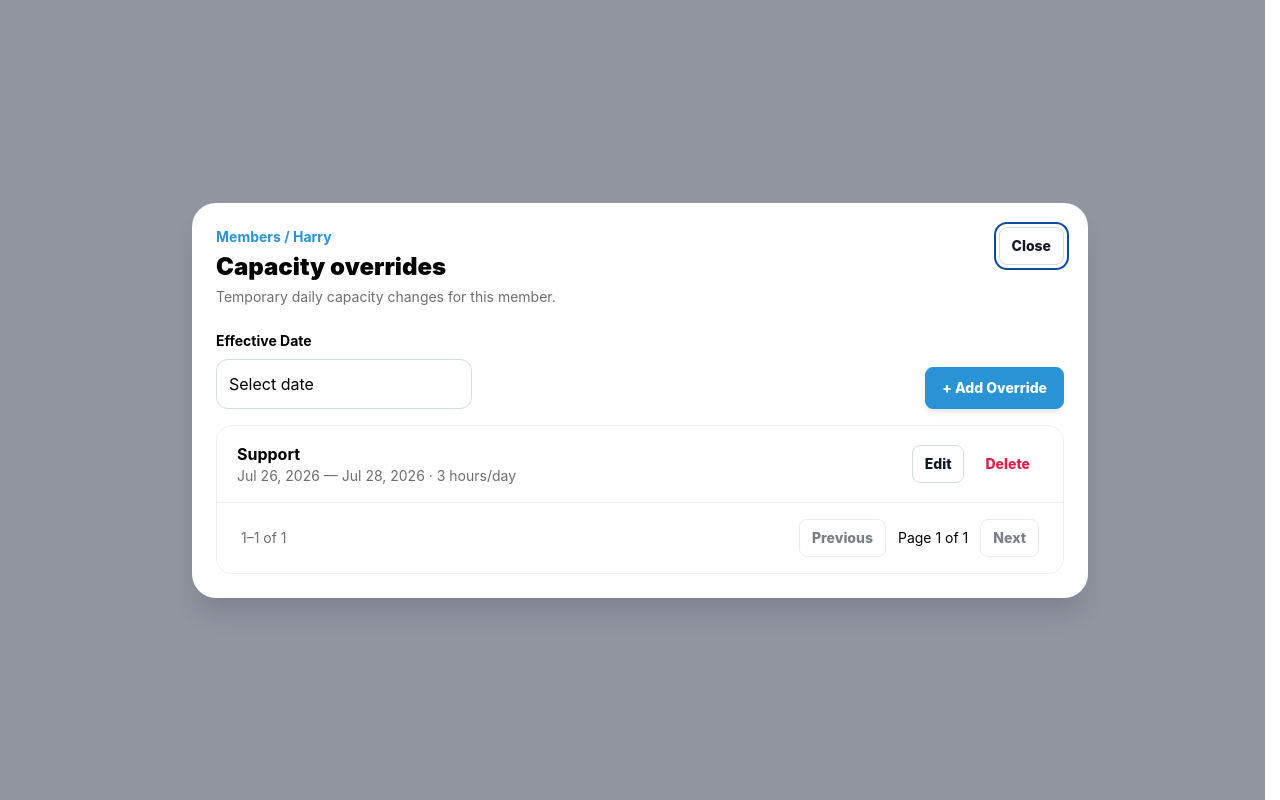
it: Effective Date filtering › requests page one, shows no-results, and clears back to the normal list
This screenshot has width=1280, height=800.
Expected: the text "Support" is shown, [237,444,300,464]
Step 1. Click the button with aria-label "Effective Date: Select date" → (344, 384), box [216,358,472,408]
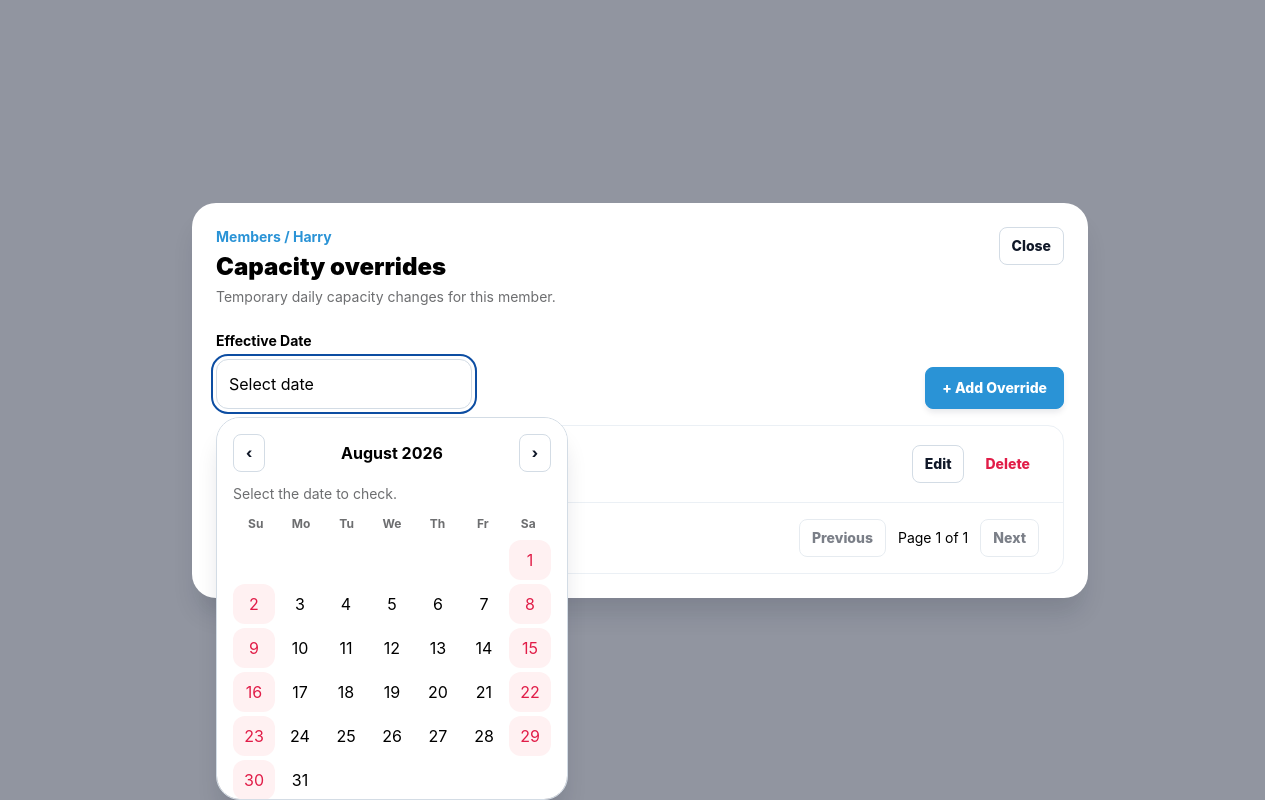
Step 2. Click the button named "Previous month" → (249, 452), box [233,434,265,472]
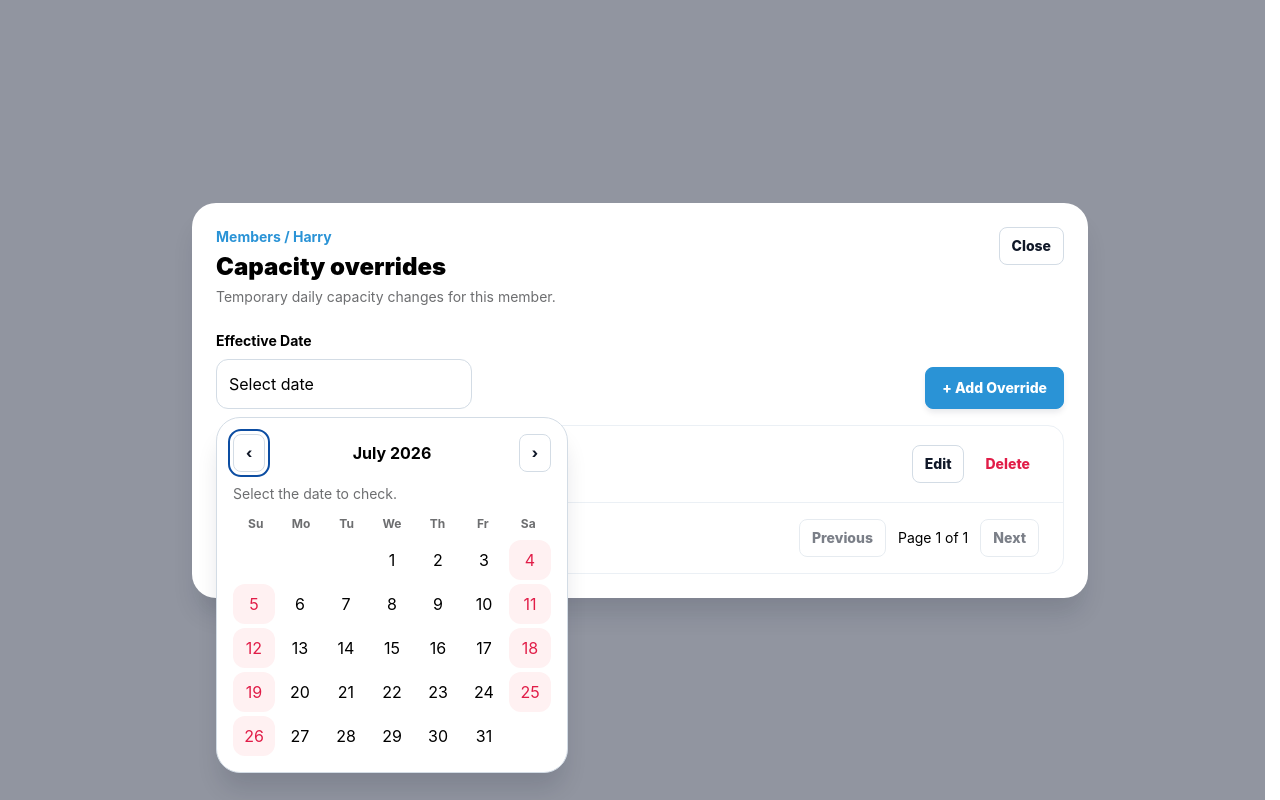
Step 3. Click the button named "2026-07-27" → (300, 736), box [279,716,321,756]
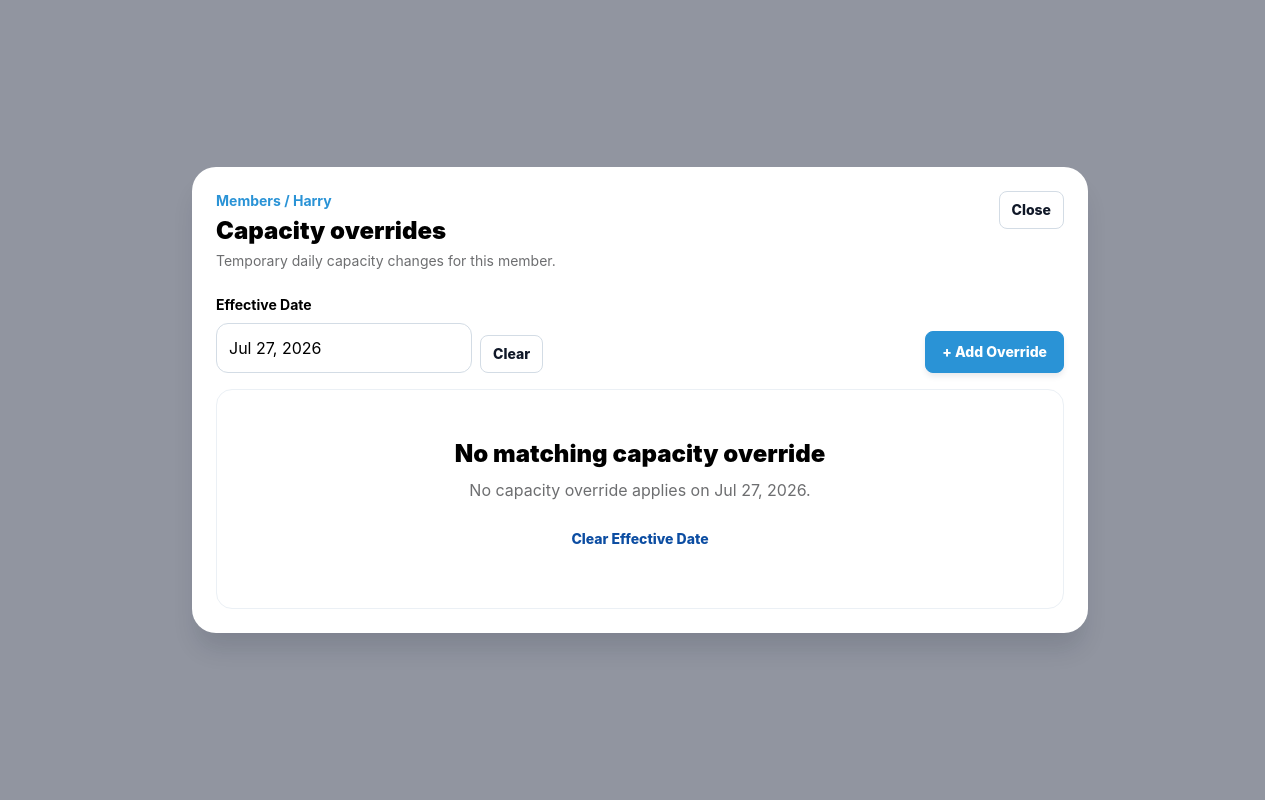
Expected: the text "No capacity override applies on Jul 27, 2026." is shown, [448,478,832,502]
Step 4. Click the button "Clear Effective Date" → (640, 539), box [554,518,726,560]
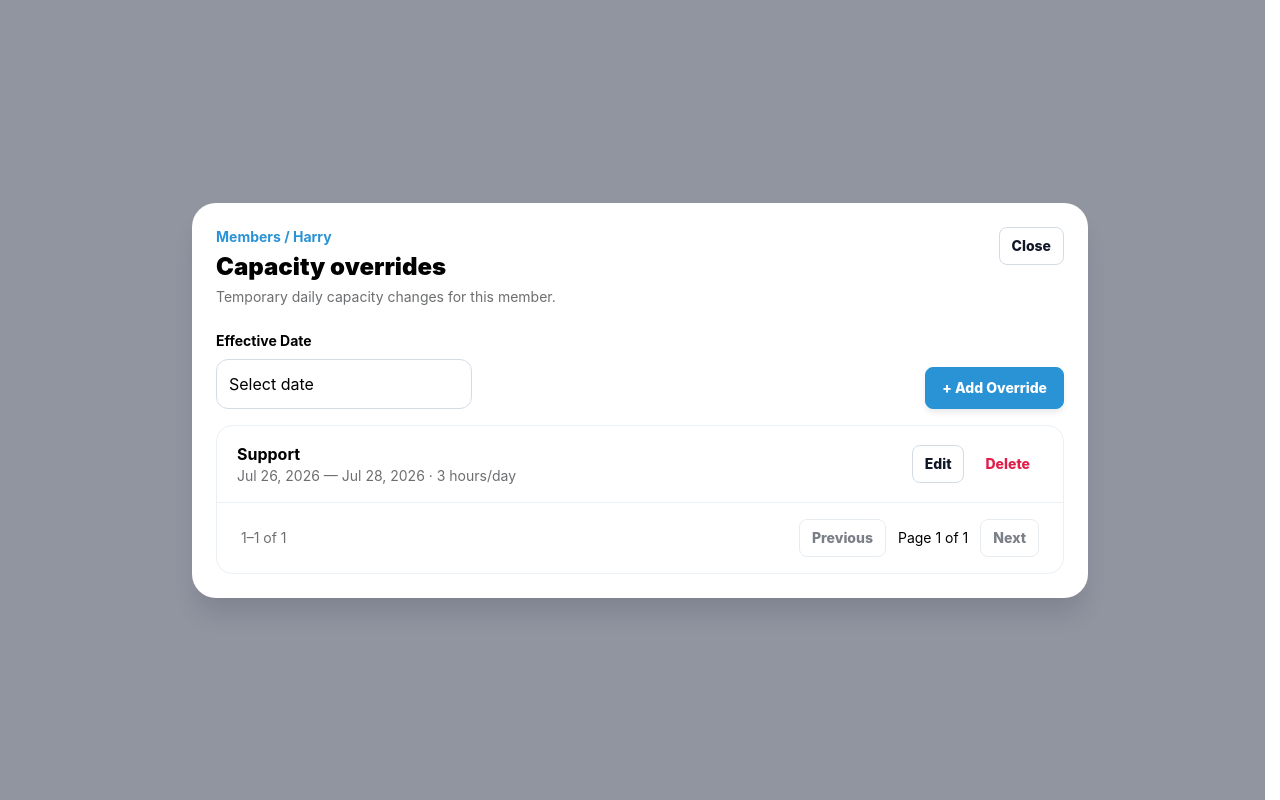
Expected: the text "Support" is shown, [237,444,300,464]
